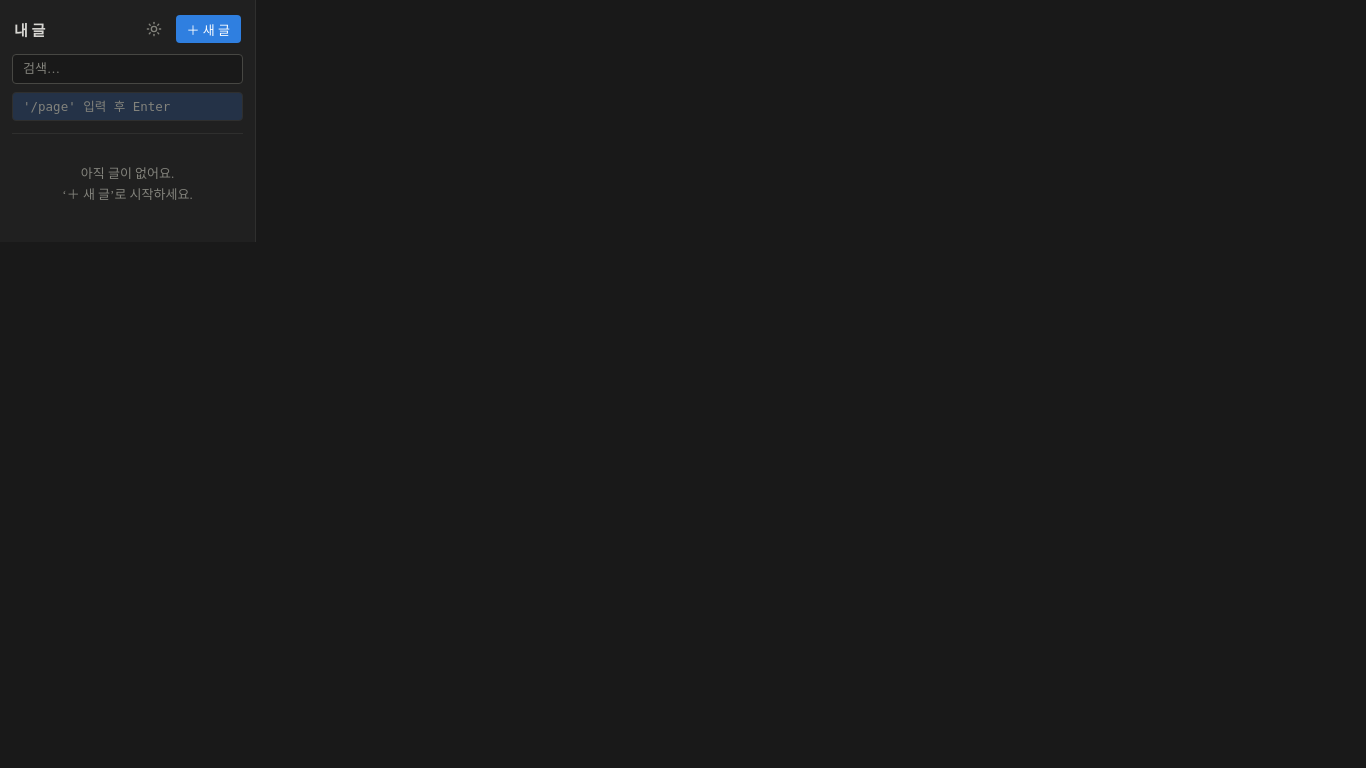
PostList — 모드 전환 토글 버튼 (C4) › 클릭하면 라이트 모드로 전환되고 라벨이 '다크 모드로 전환'이 된다
Click the button named "라이트 모드로 전환".
click(154, 29)  # box [140,15,168,43]
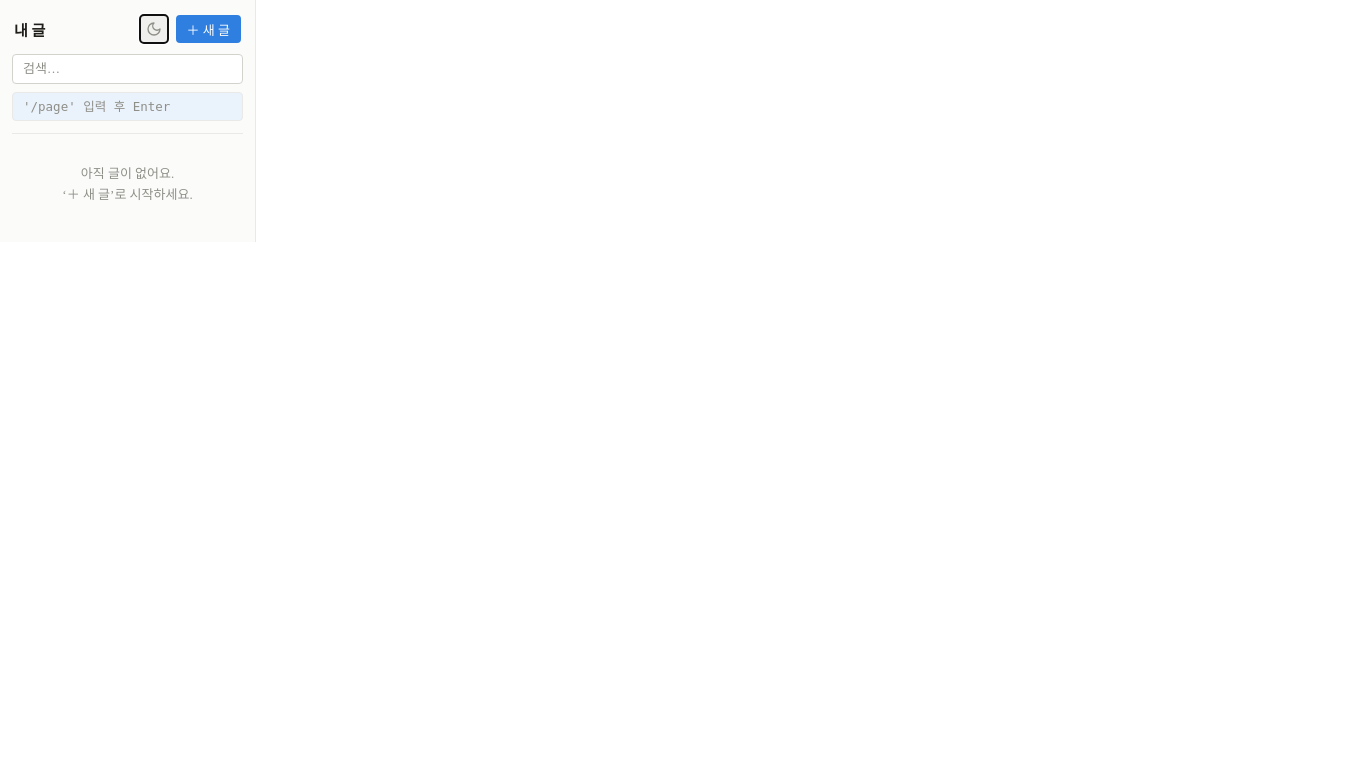
Now the button named "다크 모드로 전환" is shown, box [140,15,168,43]
